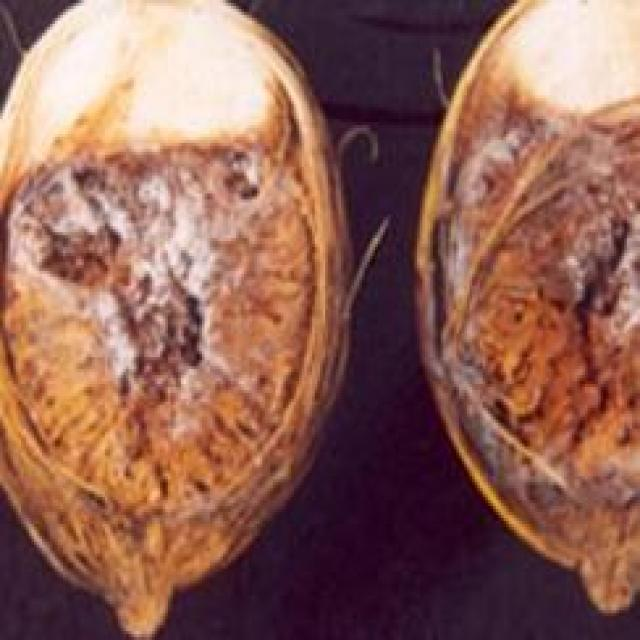damaged: (0, 0, 349, 637), (420, 0, 637, 604)
